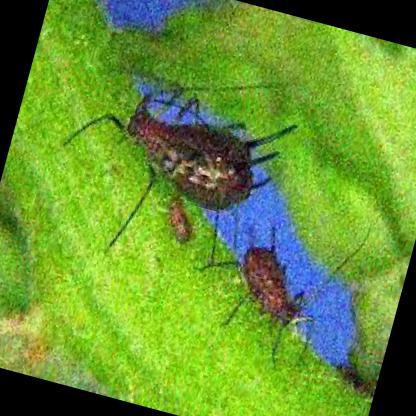uroleucon compositae: (125, 88, 295, 213)
